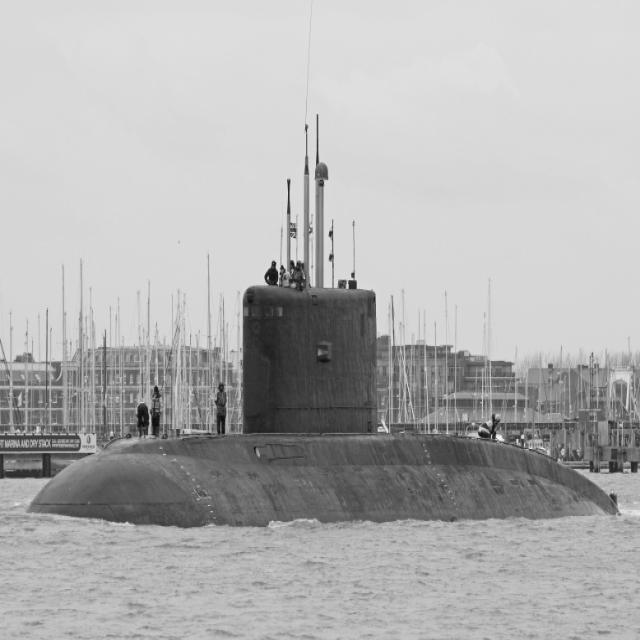submarine: (28, 111, 640, 512)
